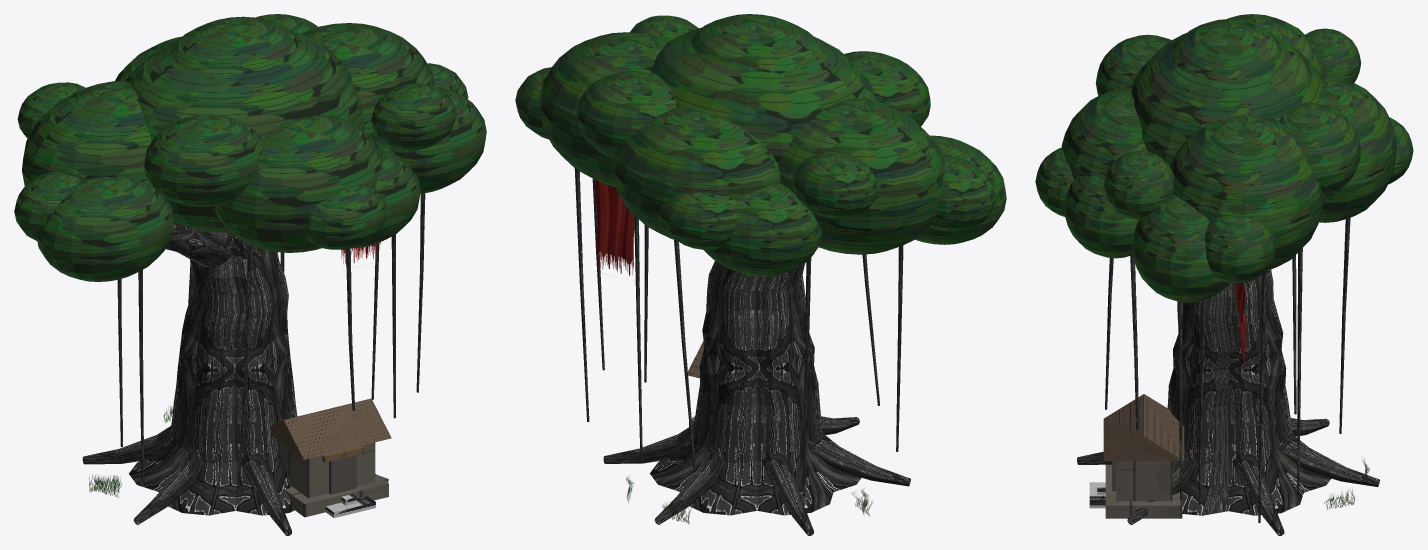
Rendered from goc-da-chi-tiet.glb.
3 views of the same model, side by side, from view 1: azimuth 30°, elevation 25°; view 2: azimuth 150°, elevation 25°; view 3: azimuth 270°, elevation 25° (orthographic).
Visible parts, largest first — view 1: goc-da-chi-tiet; view 2: goc-da-chi-tiet; view 3: goc-da-chi-tiet.
Part boxes in pixels (bbox=[...]): goc-da-chi-tiet: bbox=[14, 14, 486, 535]; goc-da-chi-tiet: bbox=[515, 14, 1006, 535]; goc-da-chi-tiet: bbox=[1035, 14, 1413, 535].
Bounding box in the file's own units: 6.5 × 6.12 × 4.7.
9 materials, 8 textured.
